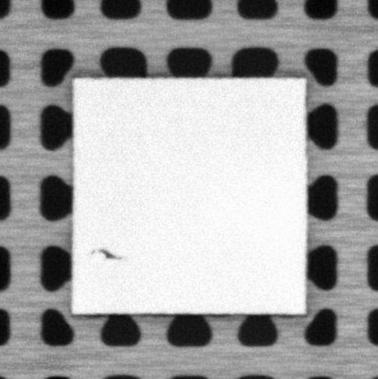DIE_INK: (101, 248, 116, 259)
